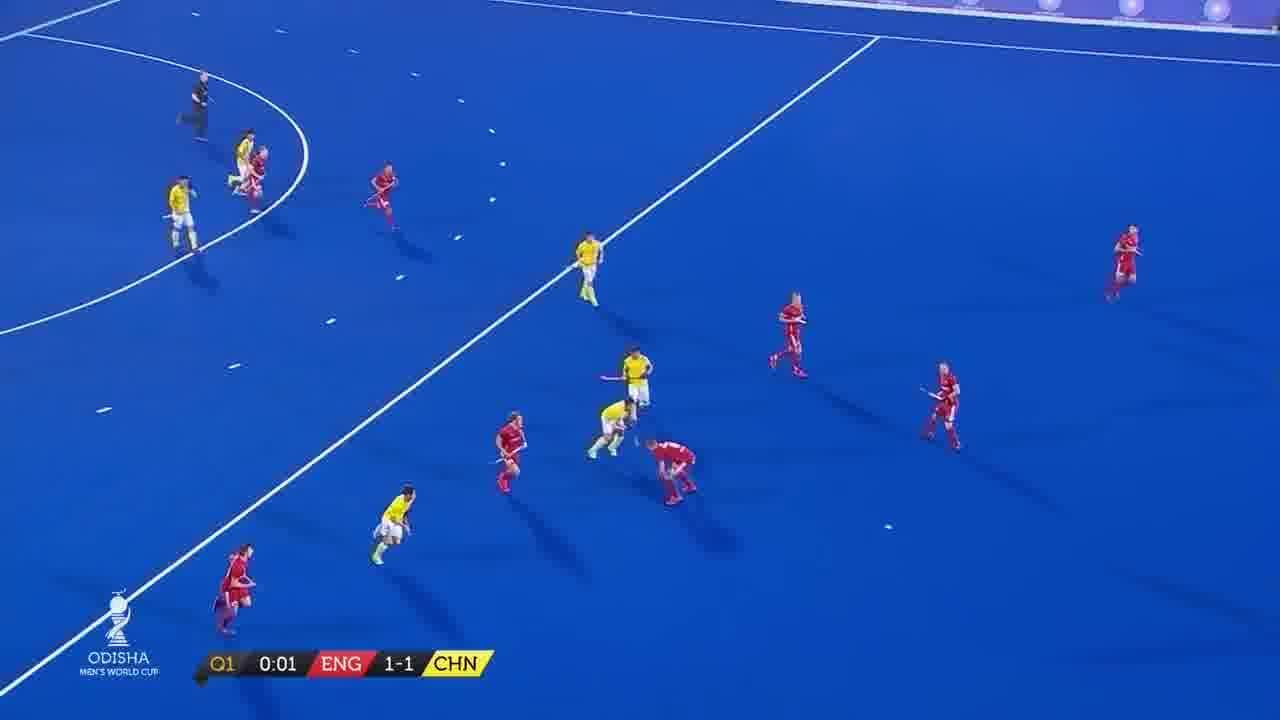ball: (881, 521, 895, 538)
